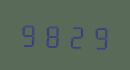eight: (41, 19, 63, 49)
nine: (18, 18, 40, 49), (87, 20, 109, 51)
two: (64, 19, 86, 50)
